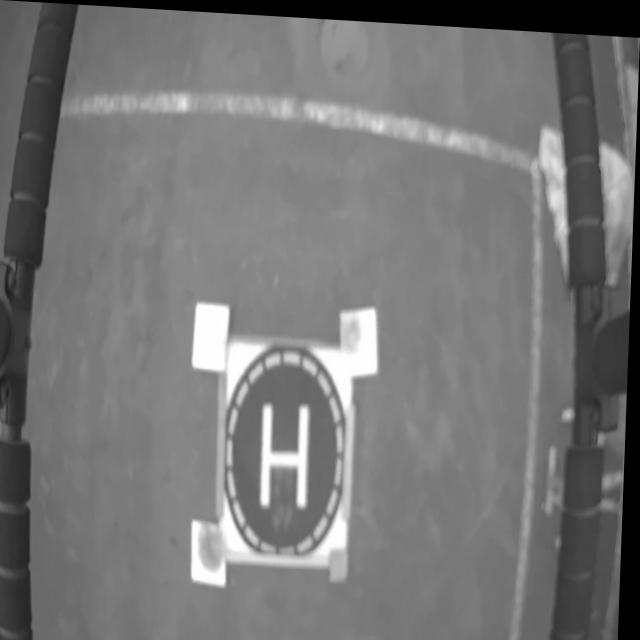Helipad: (263, 403, 313, 506)
